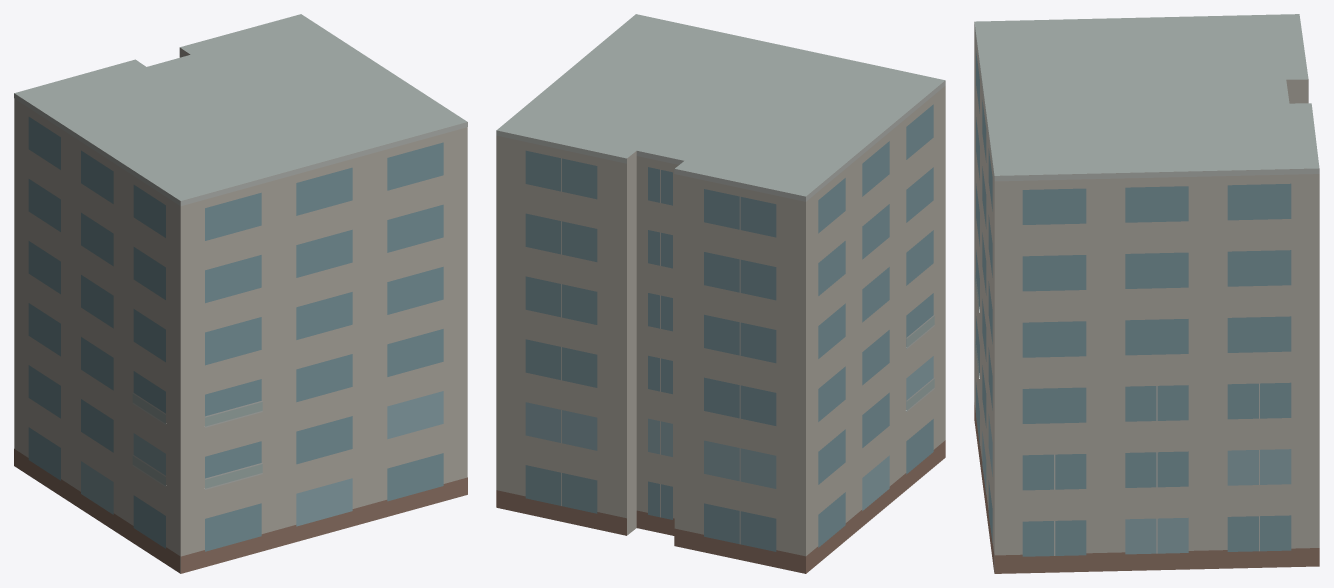
The model's file is survey-upis-32737621.glb.
3 renders of one model, left to right at view 1: azimuth 30°, elevation 25°; view 2: azimuth 150°, elevation 25°; view 3: azimuth 270°, elevation 25°, orthographic. The views are drawn at different scales.
Visible parts, largest first — view 1: survey-upis-32737621.tmp; view 2: survey-upis-32737621.tmp; view 3: survey-upis-32737621.tmp.
Boxes of the visible parts, box(x1,y1,x2,y2) form: survey-upis-32737621.tmp: box(14, 14, 467, 573); survey-upis-32737621.tmp: box(496, 14, 945, 573); survey-upis-32737621.tmp: box(974, 14, 1319, 573).
Size of the model in its own units: 15.23 by 17.45 by 13.72.
